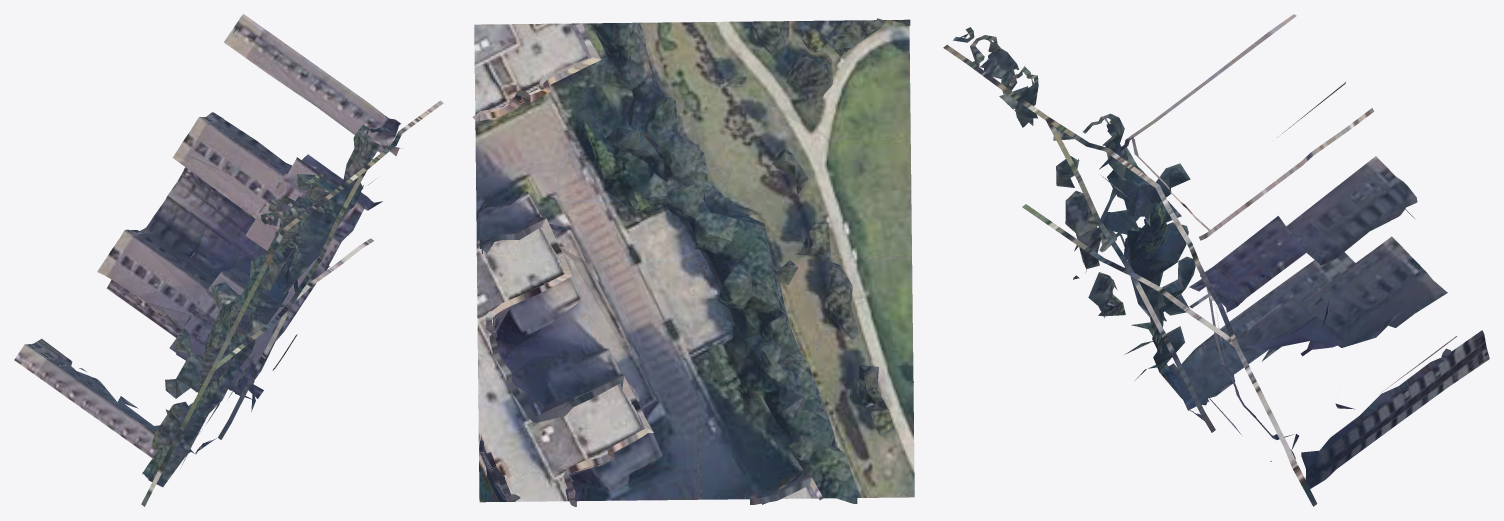
The picture shows the model from 3 angles, left to right: view 1: azimuth 30°, elevation 25°; view 2: azimuth 150°, elevation 25°; view 3: azimuth 270°, elevation 25°; orthographic projection. The views are drawn at different scales.
Size of the model in its own units: 82.62 by 87 by 95.08.
Materials: 1 (1 with a texture image).
